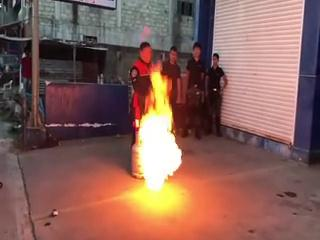Fire: (137, 69, 183, 192)
